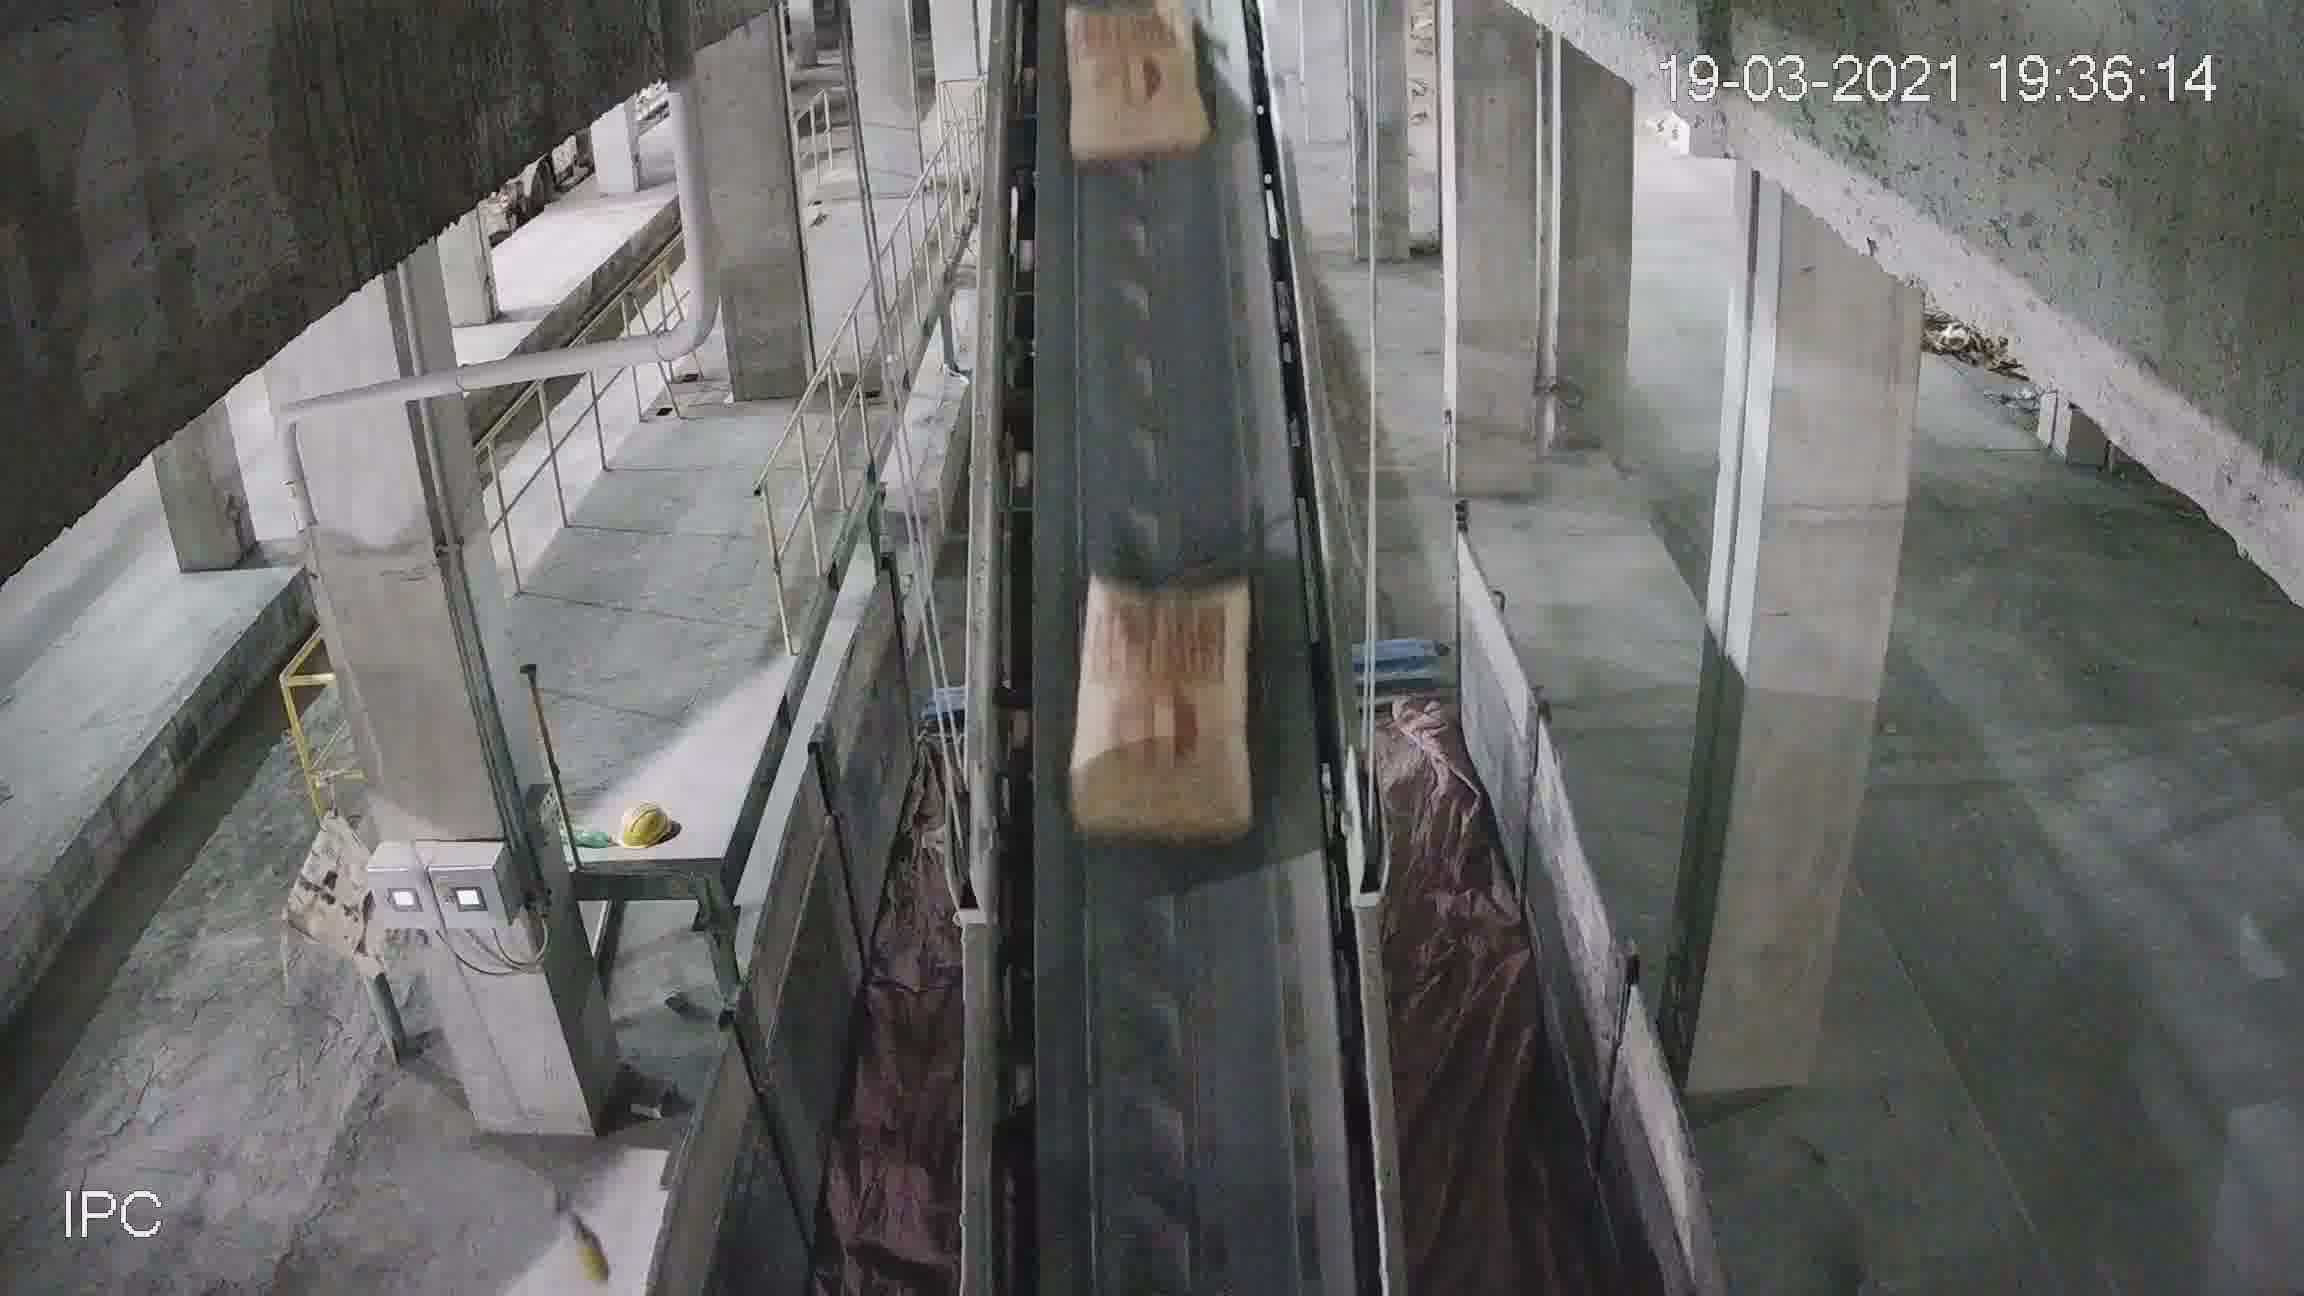bag: (1076, 587, 1253, 839), (1068, 14, 1207, 152)
belt: (964, 89, 1362, 1222)
